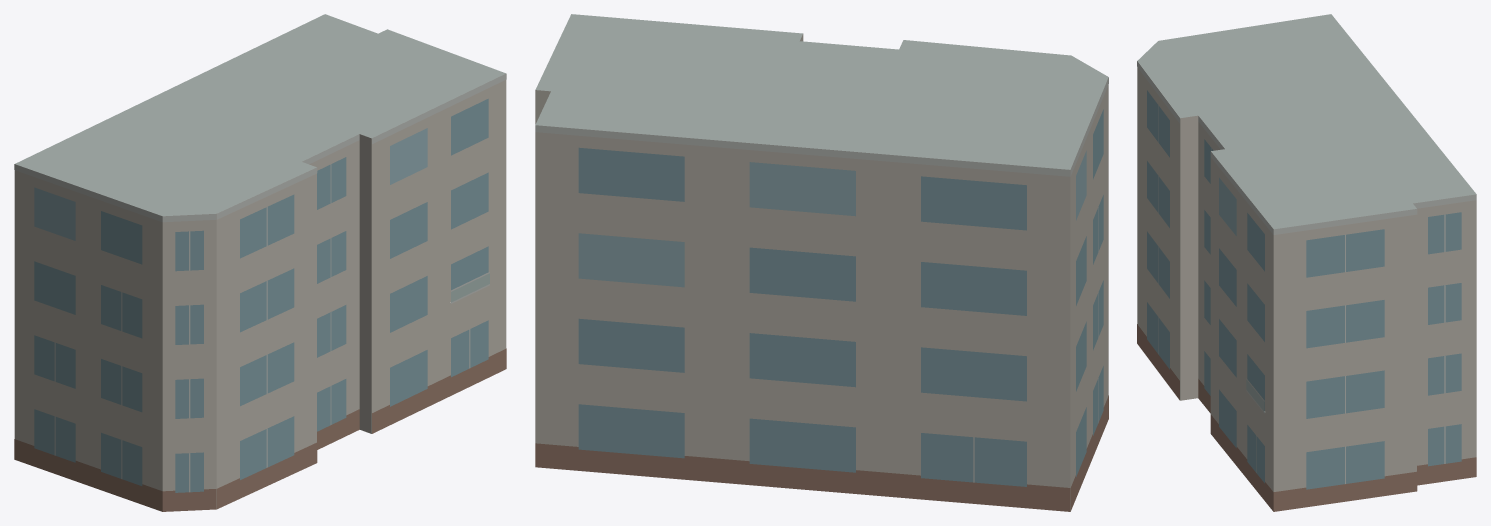
The model's file is survey-upis-33028086.glb.
The picture shows the model from 3 angles, left to right: view 1: azimuth 30°, elevation 25°; view 2: azimuth 150°, elevation 25°; view 3: azimuth 270°, elevation 25°; orthographic projection. The views are drawn at different scales.
Visible parts, largest first — view 1: survey-upis-33028086.tmp; view 2: survey-upis-33028086.tmp; view 3: survey-upis-33028086.tmp.
Part boxes in pixels (x1,y1,x2,y2): survey-upis-33028086.tmp: (14, 14, 506, 511); survey-upis-33028086.tmp: (535, 14, 1108, 511); survey-upis-33028086.tmp: (1137, 14, 1476, 511).
Bounding box in the file's own units: 19.46 × 11.9 × 12.97.
